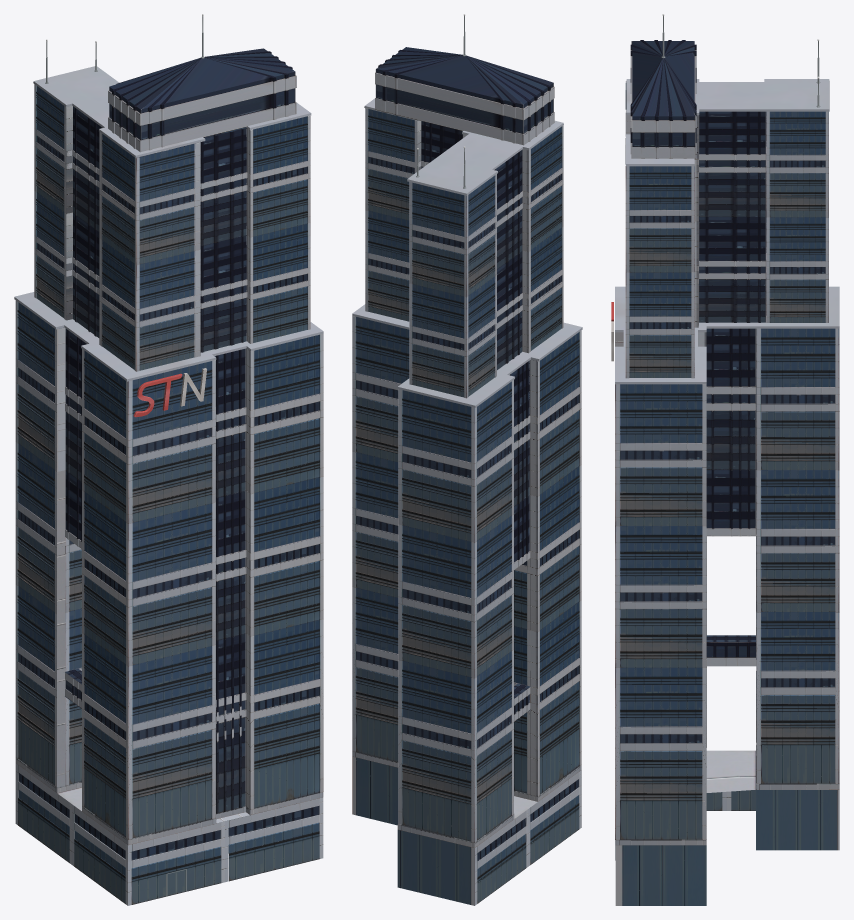
Rendered from extrabuilduing.fbx.
The picture shows the model from 3 angles, left to right: view 1: azimuth 30°, elevation 25°; view 2: azimuth 150°, elevation 25°; view 3: azimuth 270°, elevation 25°; orthographic projection. The views are drawn at different scales.
Visible parts, largest first — view 1: Plane.001; view 2: Plane.001; view 3: Plane.001.
Boxes of the visible parts, left/top/right/bottom form: Plane.001: left=14, top=14, right=323, bottom=905; Plane.001: left=352, top=14, right=582, bottom=905; Plane.001: left=611, top=14, right=839, bottom=905.
Bounding box in the file's own units: 1538 × 6352 × 1555.
